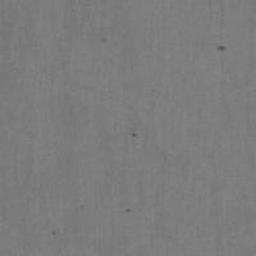Inclusion: (217, 46, 225, 51)
